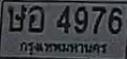4: (56, 5, 69, 33)
6: (107, 6, 121, 33)
7: (91, 5, 105, 33)
9: (74, 5, 87, 32)
A39: (7, 4, 26, 31)
A43: (28, 5, 44, 32)
BKK: (17, 38, 108, 58)
